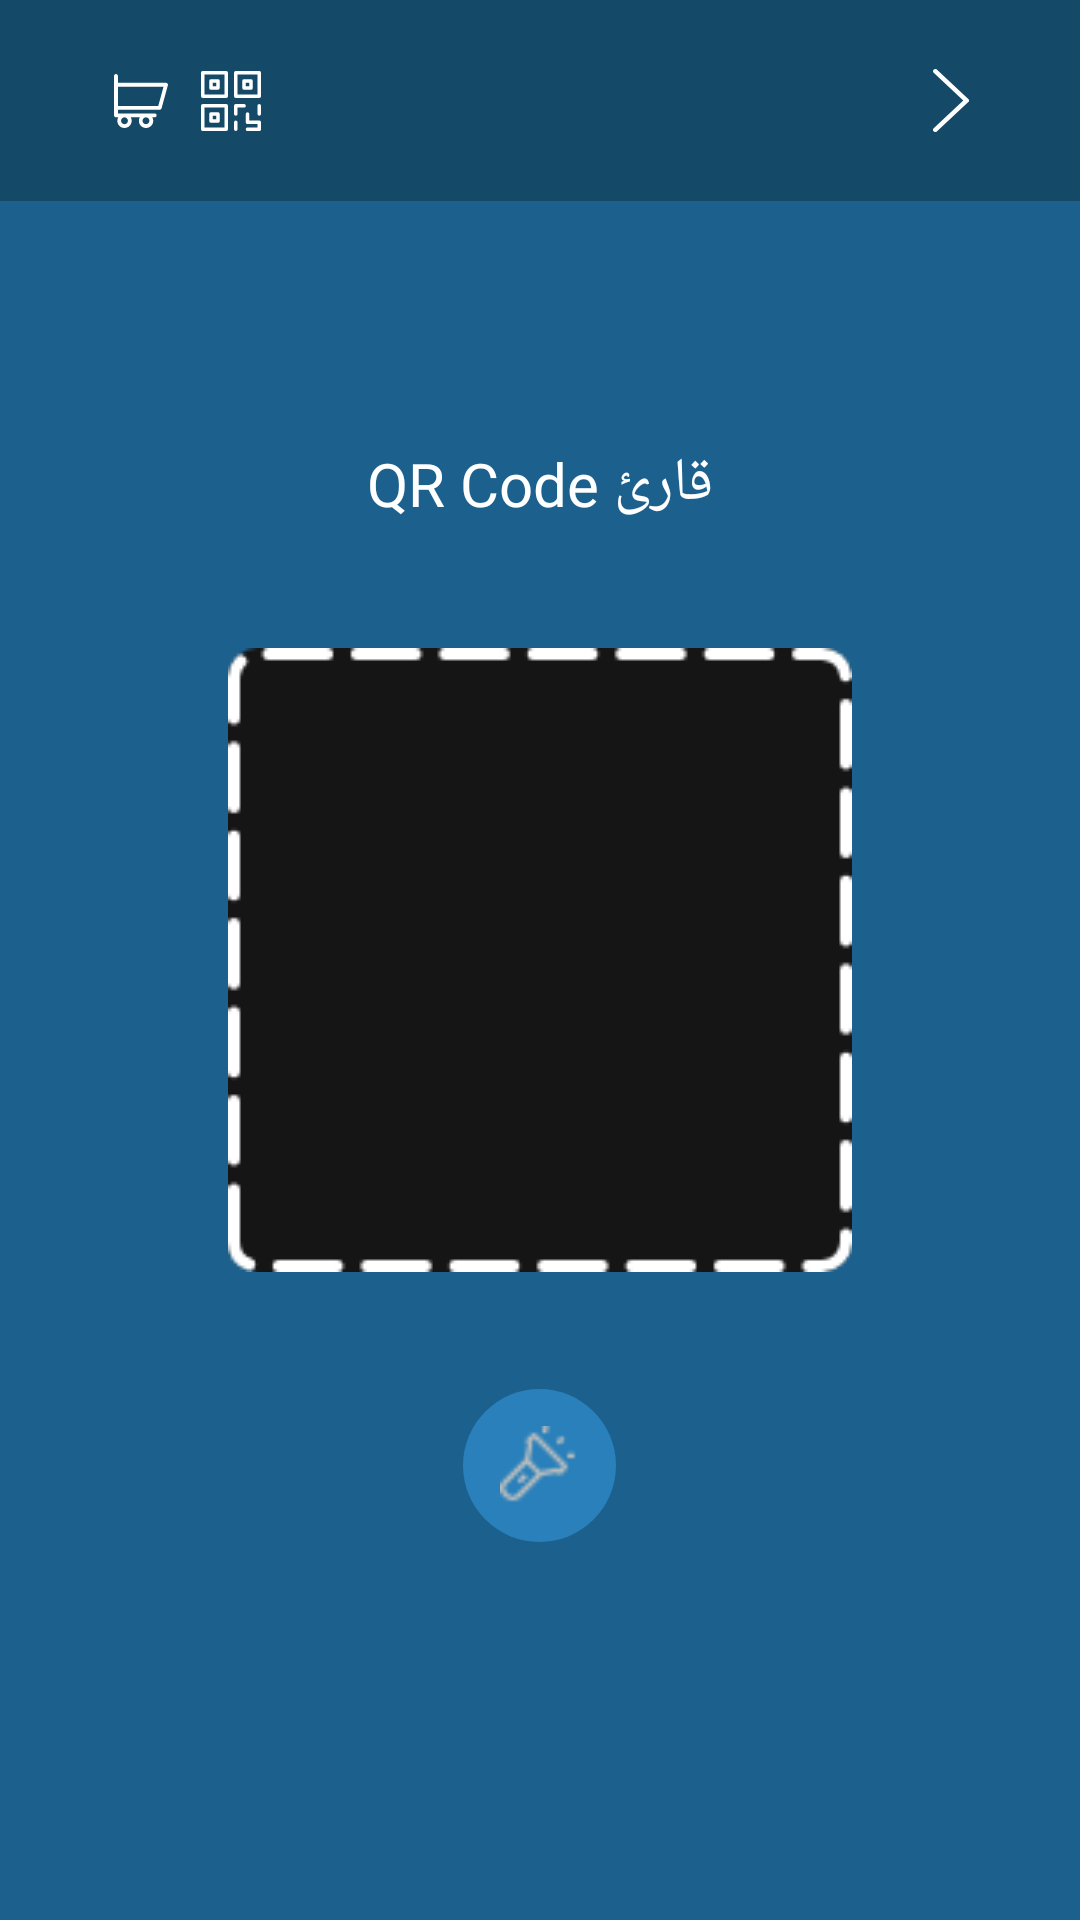

Point at icon controls on the screen. Image size 1080 × 1920, points as [x,y].
back btton right: [951,100]
basket: [141,101]
flashlight: [538,1464]
